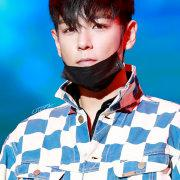WRONG: (53, 12, 132, 86)
